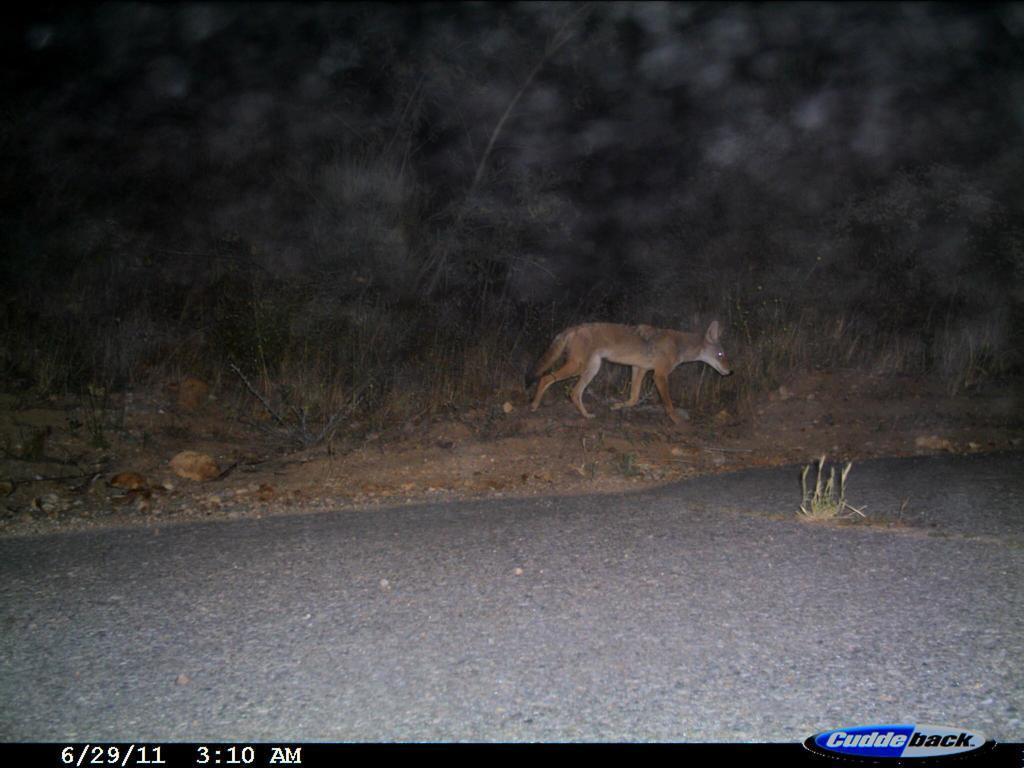coyote: (514, 301, 753, 431)
